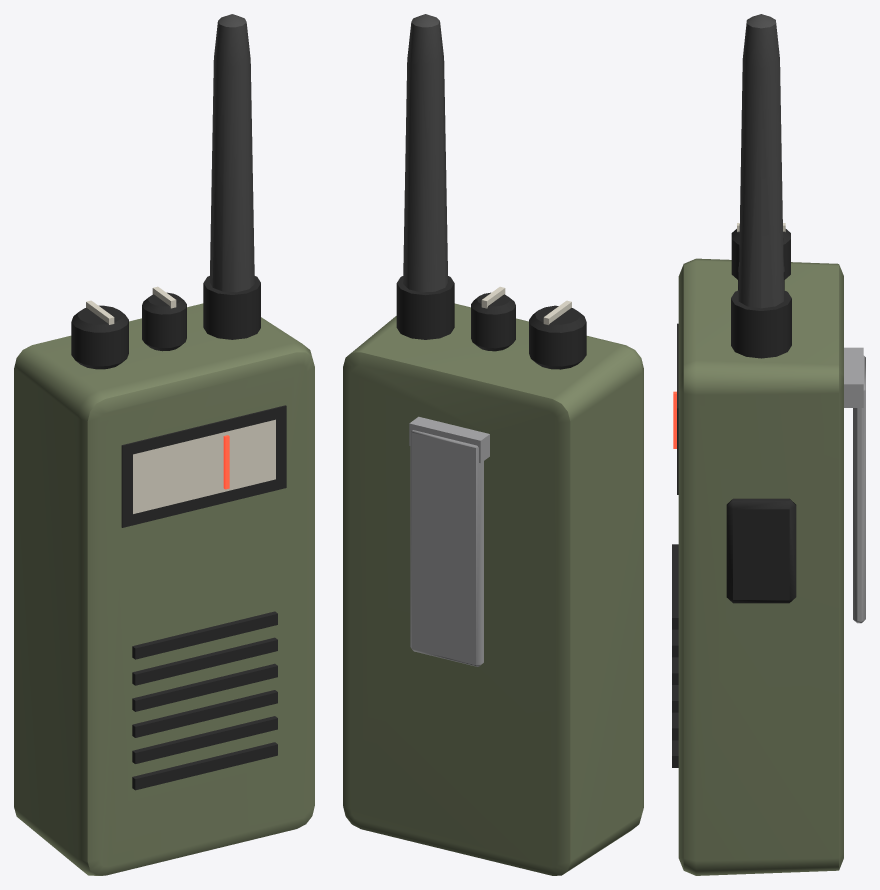
Rendered from radio.glb.
3 views of the same model, side by side, from view 1: azimuth 30°, elevation 25°; view 2: azimuth 150°, elevation 25°; view 3: azimuth 270°, elevation 25° (orthographic). The views are drawn at different scales.
Visible parts, largest first — view 1: body, window, dial; view 2: body, dial; view 3: body, dial, window.
Boxes of the visible parts, x1=… form: body: x1=14, y1=14, x2=314, y2=875; window: x1=121, y1=405, x2=286, y2=527; dial: x1=71, y1=300, x2=128, y2=369; body: x1=343, y1=14, x2=643, y2=875; dial: x1=529, y1=300, x2=586, y2=369; body: x1=672, y1=14, x2=865, y2=875; dial: x1=731, y1=223, x2=790, y2=279; window: x1=673, y1=323, x2=678, y2=494.
Bounding box in the file's own units: 0.069 × 0.214 × 0.0445.
